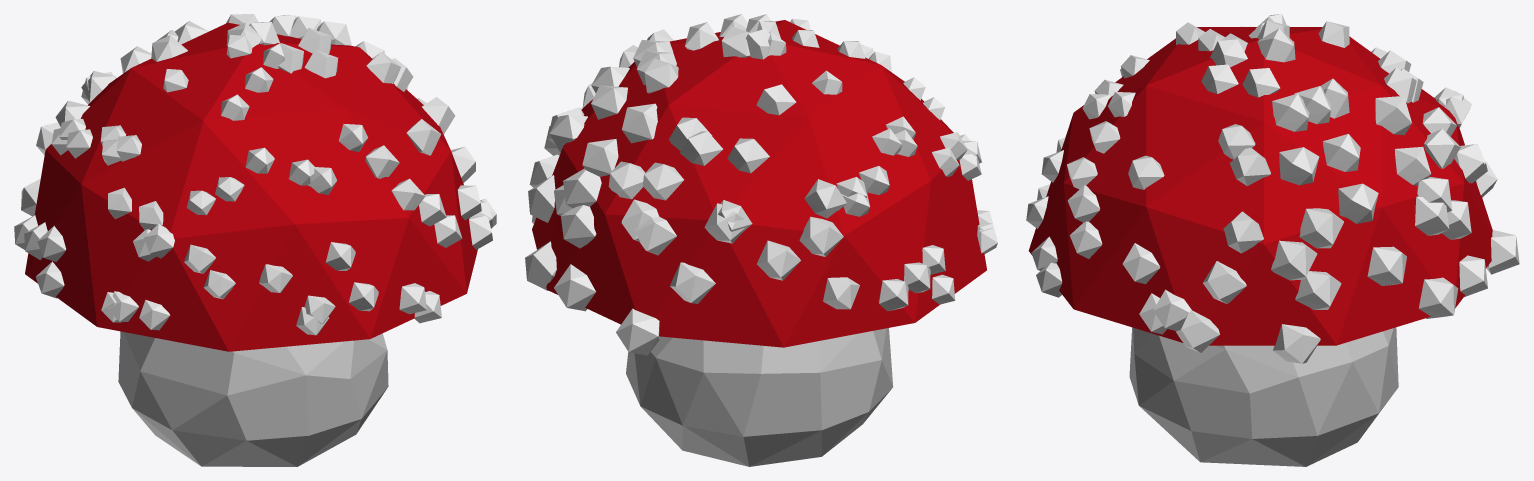
The model's file is Shroom3.fbx.
3 views of the same model, side by side, from view 1: azimuth 30°, elevation 25°; view 2: azimuth 150°, elevation 25°; view 3: azimuth 270°, elevation 25° (orthographic).
Parts seen in each view (by area): view 1: Icosphere, Icosphere.003, Cylinder; view 2: Icosphere, Icosphere.003, Cylinder; view 3: Icosphere, Icosphere.003, Cylinder.
Part boxes in pixels (x1,y1,x2,y2): Icosphere: (25, 22, 477, 351); Icosphere.003: (14, 14, 496, 335); Cylinder: (118, 331, 388, 466); Icosphere: (532, 20, 986, 347); Icosphere.003: (525, 14, 997, 355); Cylinder: (626, 328, 893, 466); Icosphere: (1028, 27, 1492, 345); Icosphere.003: (1026, 14, 1519, 363); Cylinder: (1129, 327, 1398, 466).
Size of the model in its own units: 108 by 99.75 by 111.
